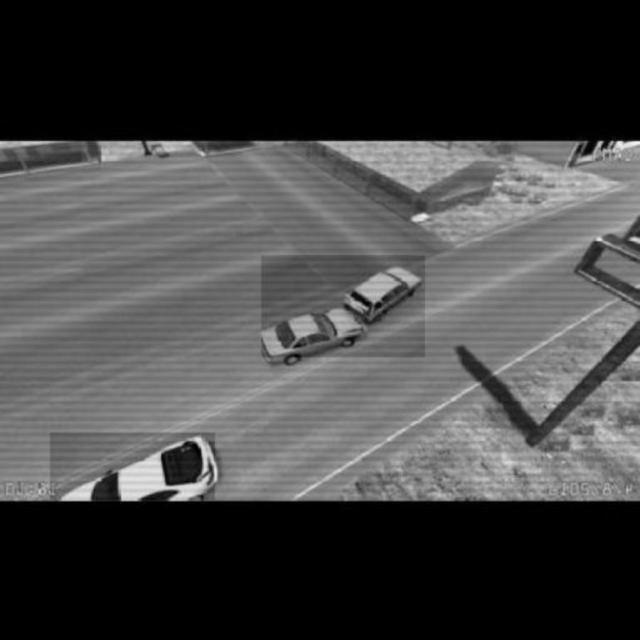accident: (262, 255, 426, 358)
vehicle: (51, 432, 216, 500)
